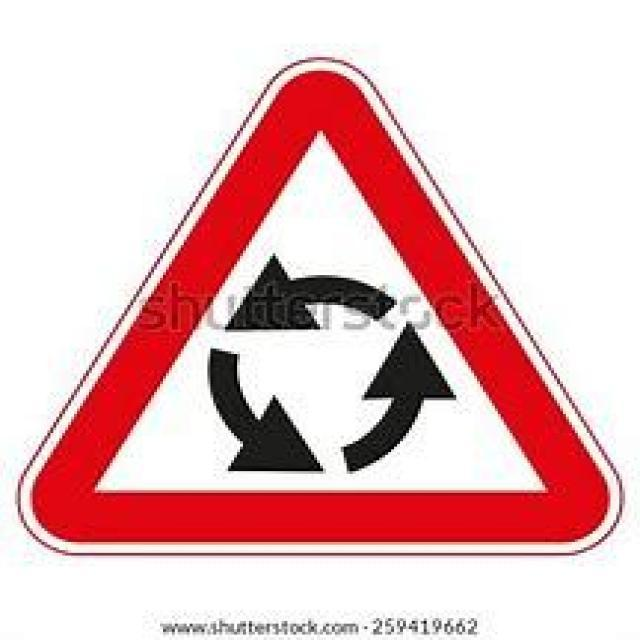roundabout: (39, 72, 608, 554)
